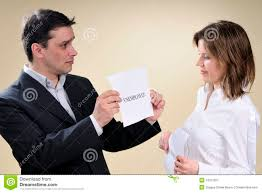person: (11, 9, 99, 125), (181, 12, 254, 147)
